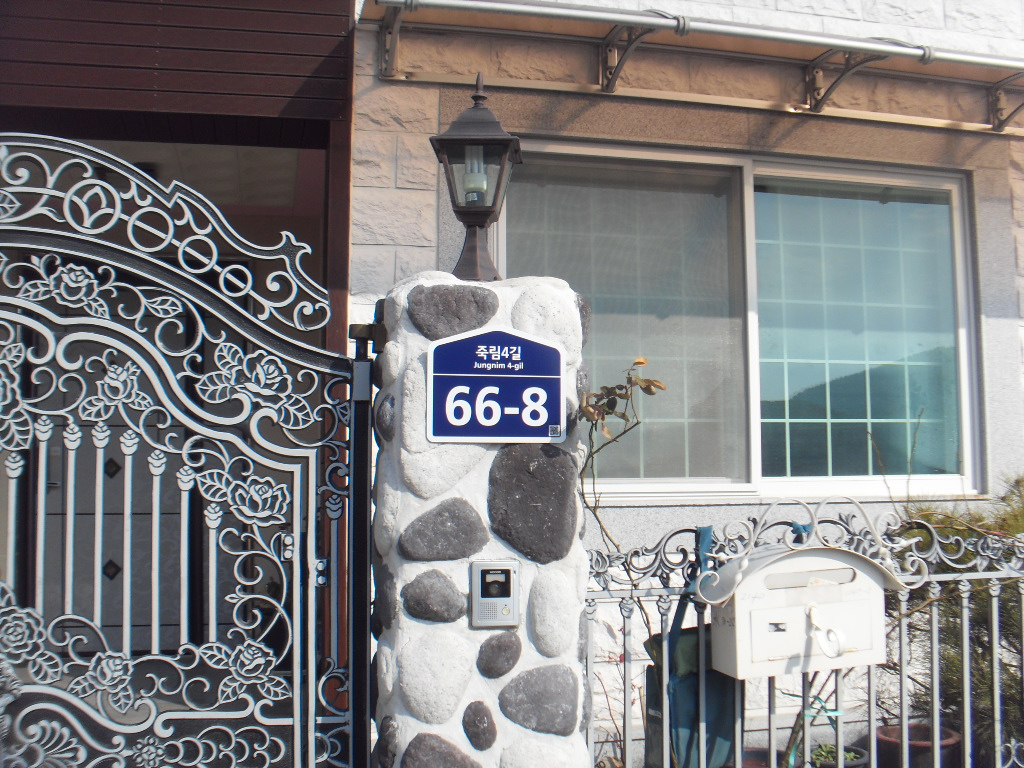building_license_plate1: (426, 326, 566, 443)
